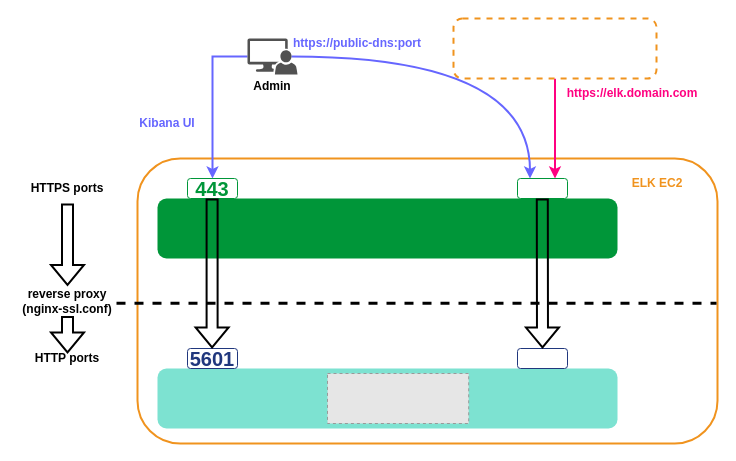
Some shapes in this 736 by 461 pixel diagram are drawn without their labels. Grey dashed boxes stand in for pictures. The shapes that lost their labels are listed below. From the top down, each one's centre as x and y in pixels, then its label:
[554,48]: Other Services Interacting with ELK
[387,228]: Nginx
